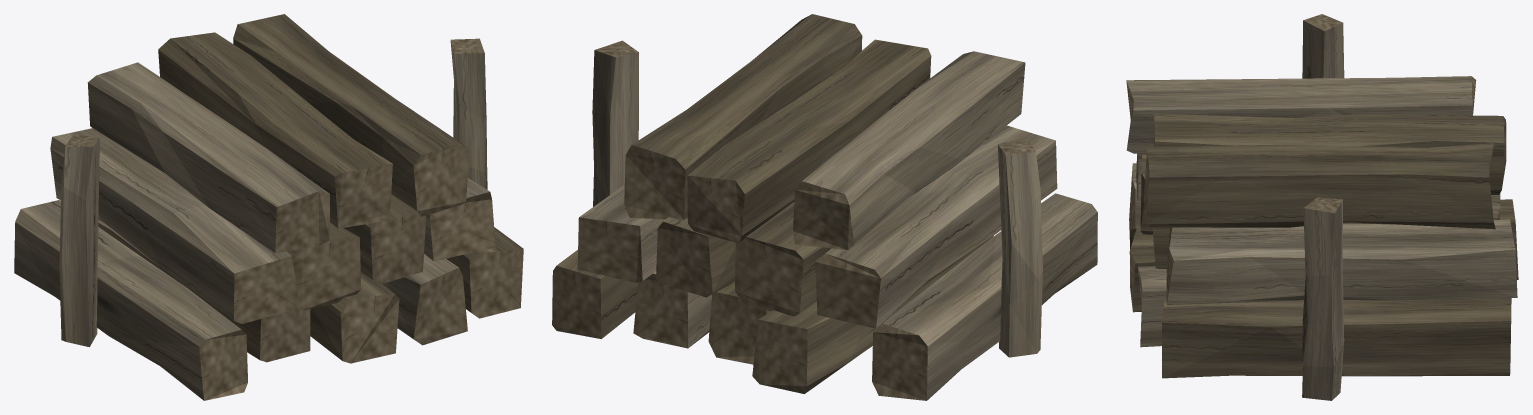
Rendered from firewood.glb.
The picture shows the model from 3 angles, left to right: view 1: azimuth 30°, elevation 25°; view 2: azimuth 150°, elevation 25°; view 3: azimuth 270°, elevation 25°; orthographic projection. The views are drawn at different scales.
Visible parts, largest first — view 1: split_firewood_stack_LOD1; view 2: split_firewood_stack_LOD1; view 3: split_firewood_stack_LOD1.
Part boxes in pixels (bbox=[...]): split_firewood_stack_LOD1: bbox=[14, 14, 523, 400]; split_firewood_stack_LOD1: bbox=[552, 14, 1097, 400]; split_firewood_stack_LOD1: bbox=[1126, 14, 1518, 400].
Bounding box in the file's own units: 0.9517 × 0.4225 × 0.773.
3 materials, 3 textured.
